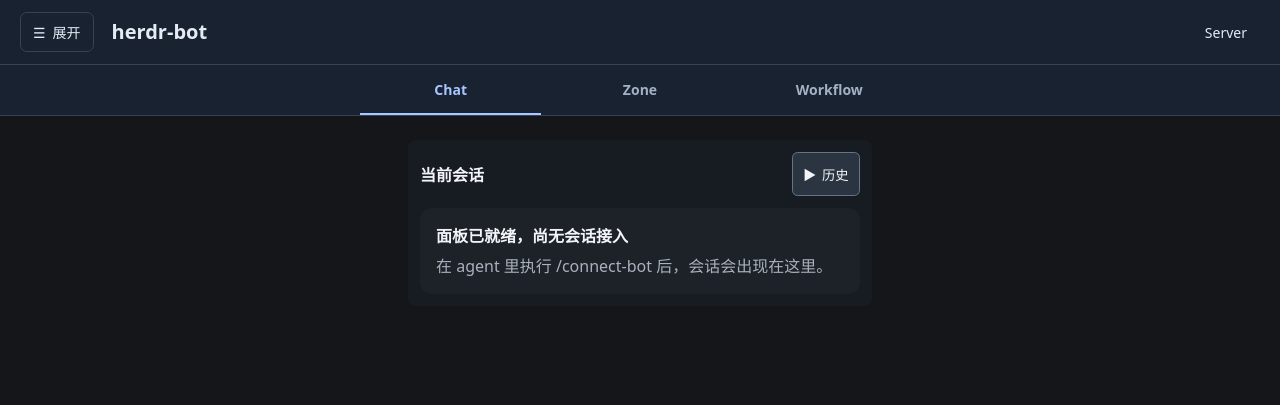
文件列表：zone 登记 › 未配置创建父目录时禁用新增并给出明确提示
Step 1. Click the tab with test id "tab-files" → click(640, 90), box x1=549 y1=65 x2=731 y2=115
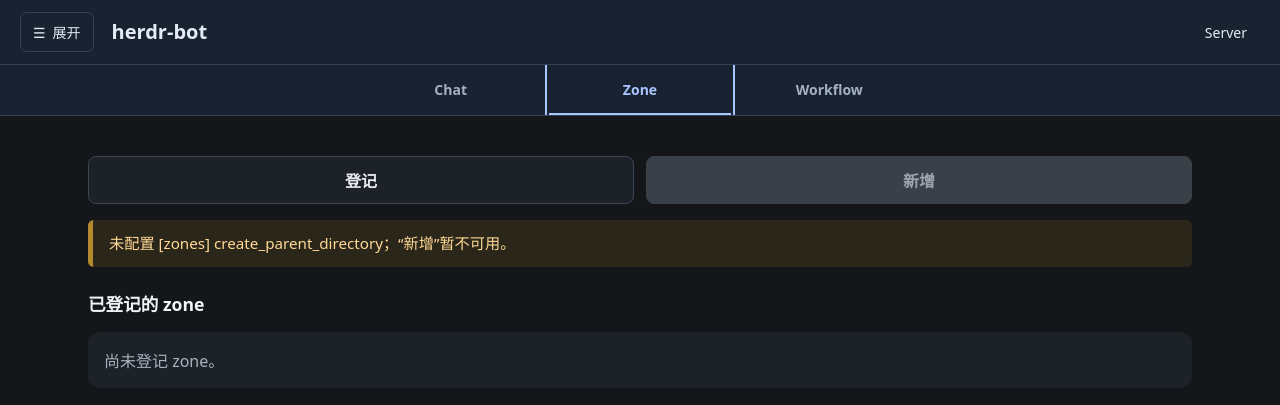
Check: the text "尚未登记 zone。" is shown, box x1=88 y1=332 x2=1192 y2=388
Check: the button with test id "create-open" is disabled, box x1=646 y1=156 x2=1192 y2=204
Check: the text with test id "create-unavailable" shows "create_parent_directory", box x1=109 y1=233 x2=515 y2=253
